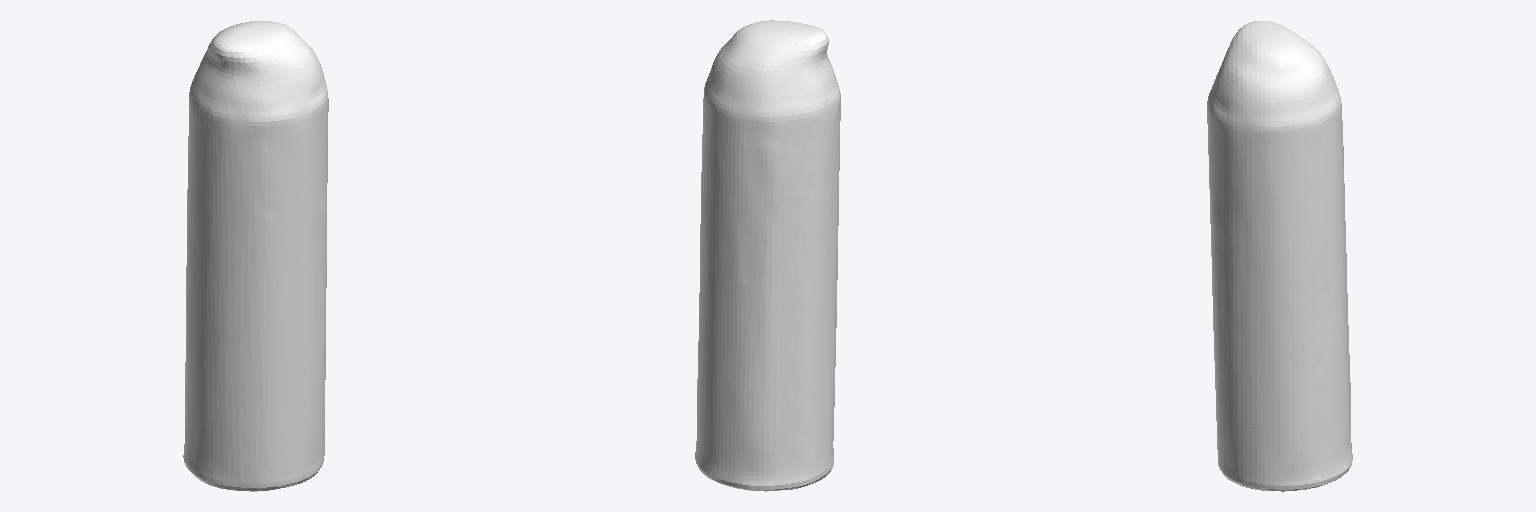
The robot description file, URDF, robot "gillette_shaving_gel_obstacle":
<?xml version="1.0" ?>
<robot name="gillette_shaving_gel_obstacle">
  <link name="baseLink">
    <contact>
    	<friction_anchor/>
           <!--<lateral_friction value="1.0"/>-->
    	   <lateral_friction value="1.0"/>
    </contact>
    <inertial>
      <origin rpy="0 0 0" xyz="0 0 0"/>
       <!-- mass controls penetration -->
       <!--<mass value=".1"/>-->
       <mass value=".1"/>
       <inertia ixx="1" ixy="0" ixz="0" iyy="1" iyz="0" izz="1"/>
    </inertial>
    <visual>
      <origin rpy="0 0 0" xyz="0 0 0"/>
      <geometry>
        <mesh filename="../meshes/meshes_obj/gillette_shaving_gel.obj"/>
      </geometry>
       <material name="white">
        <color rgba="1 1 1 1"/>
      </material>
    </visual>
    <collision>
      <origin rpy="0 0 0" xyz="0 0 0"/>
      <geometry>
        <mesh filename="../meshes/meshes_obj/gillette_shaving_gel.obj"/>
      </geometry>
    </collision>
  </link>
</robot>

--- Facts derived from the render (not from the file) ---
Views: 3 orthographic renders of the robot side by side, from view 1: azimuth 30°, elevation 25°; view 2: azimuth 150°, elevation 25°; view 3: azimuth 270°, elevation 25°.
Robot: gillette_shaving_gel_obstacle — 1 links, 0 joints (none); root link baseLink; default pose: every joint at zero.
Visible links, largest first — view 1: baseLink; view 2: baseLink; view 3: baseLink.
Boxes of the visible links, box(x1,y1,x2,y2) form: baseLink: box(183, 20, 328, 491); baseLink: box(695, 20, 840, 491); baseLink: box(1207, 21, 1352, 491).
Bounding box of the posed robot: 0.054 × 0.0574 × 0.1876 m (x, y, z).
Meshes: 1 distinct files referenced, 1 mesh visuals loaded (1 OBJ).